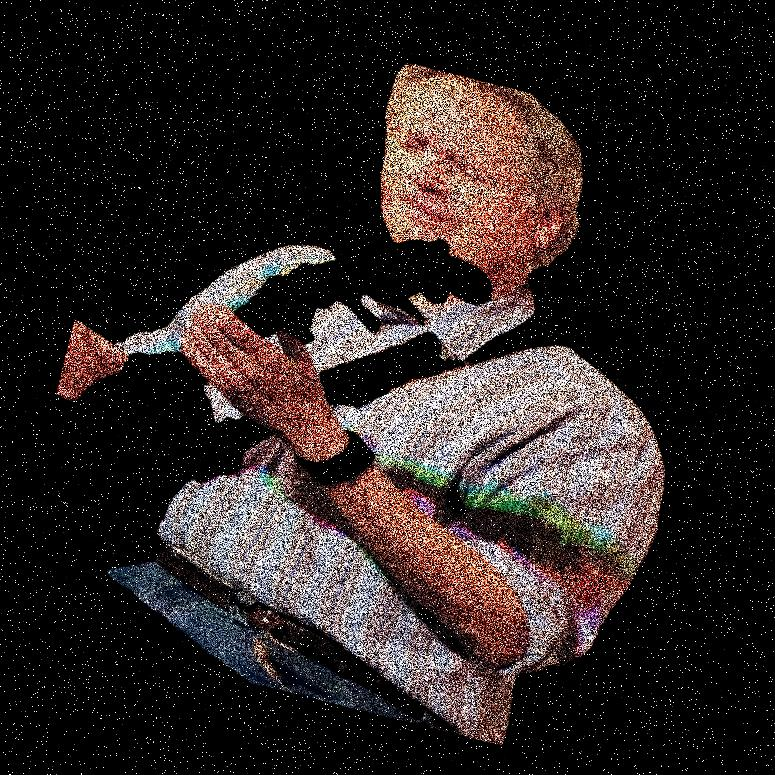Pessoa: (324, 0, 623, 774)
